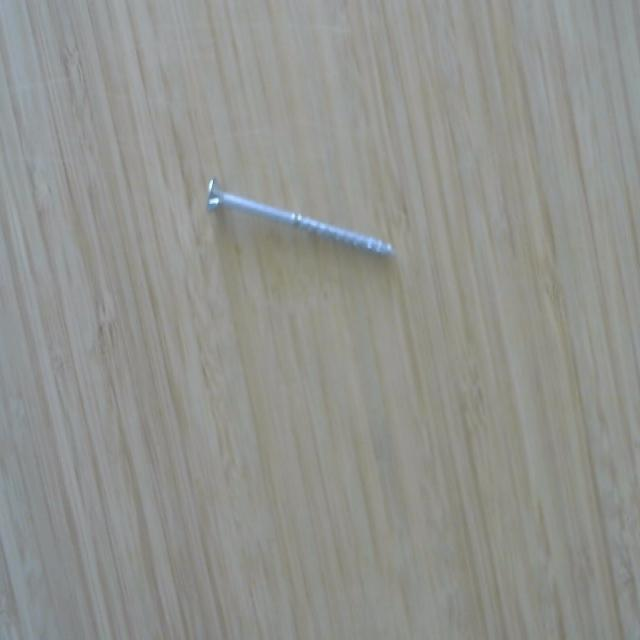Long screw: (197, 170, 400, 265)
